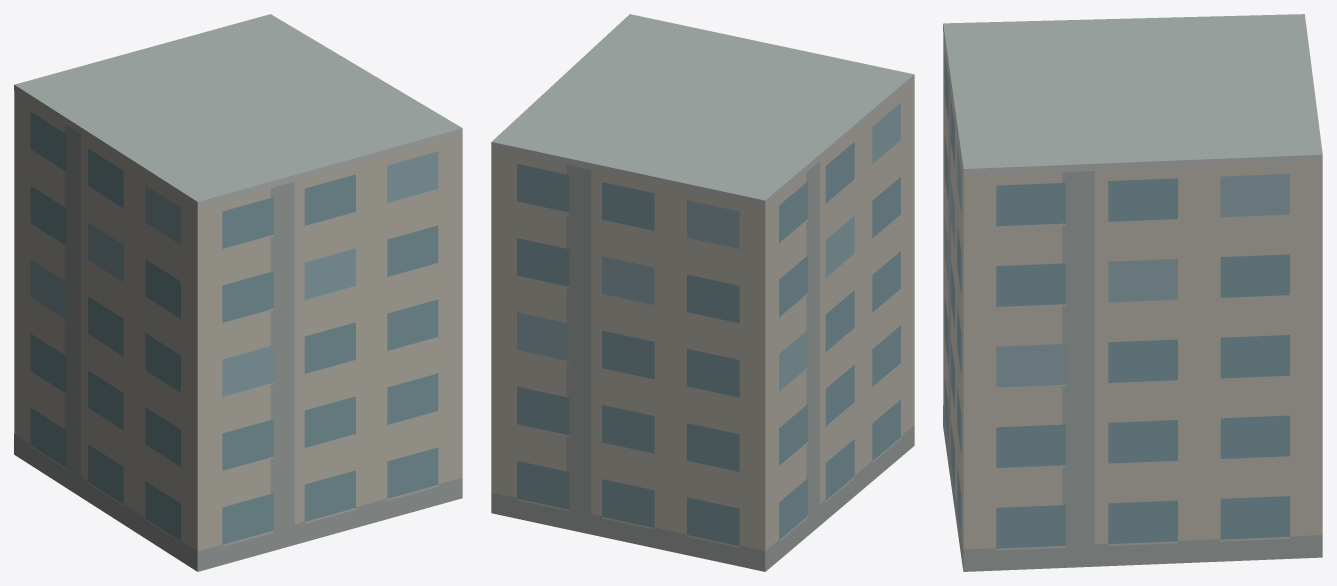
File: survey-upis-32884989.glb
3 views of the same model, side by side, from view 1: azimuth 30°, elevation 25°; view 2: azimuth 150°, elevation 25°; view 3: azimuth 270°, elevation 25° (orthographic). The views are drawn at different scales.
Parts seen in each view (by area): view 1: survey-upis-32884989.tmp; view 2: survey-upis-32884989.tmp; view 3: survey-upis-32884989.tmp.
Part boxes in pixels (left/top/right/bottom): survey-upis-32884989.tmp: left=14, top=14, right=462, bottom=571; survey-upis-32884989.tmp: left=491, top=14, right=914, bottom=571; survey-upis-32884989.tmp: left=943, top=14, right=1322, bottom=571.
Size of the model in its own units: 11.15 by 13.5 by 11.54.
